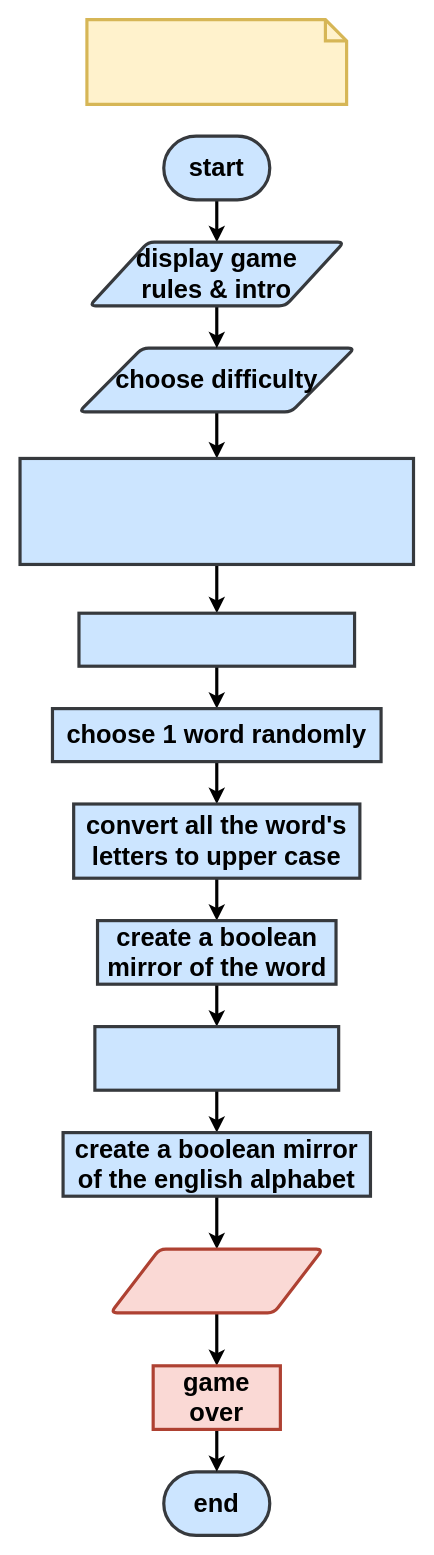
The diagram is 434 pixels wide and 1555 high, and some of its shapes have lost their labels. Each missing label, with the centre of its shape:
"Game play" goes at point 216,1280.
"import words from file" goes at point 216,639.
"main finction" goes at point 216,61.
"mark all the spaces as guessed" goes at point 216,1057.
"• calculate lives • calculate the range of words • calculate hints" goes at point 216,511.
